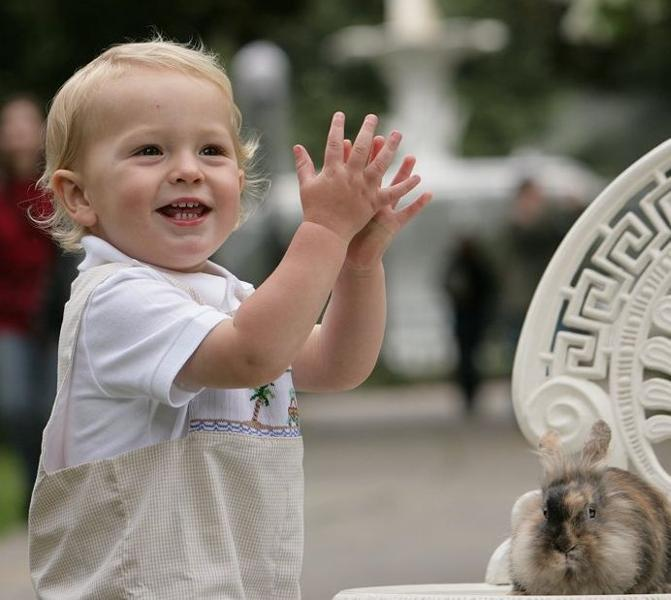person: (31, 33, 429, 600)
